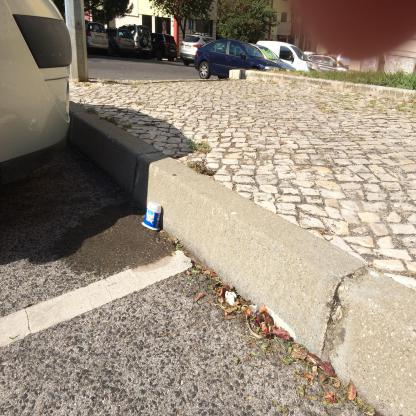plastik: (143, 202, 163, 232)
